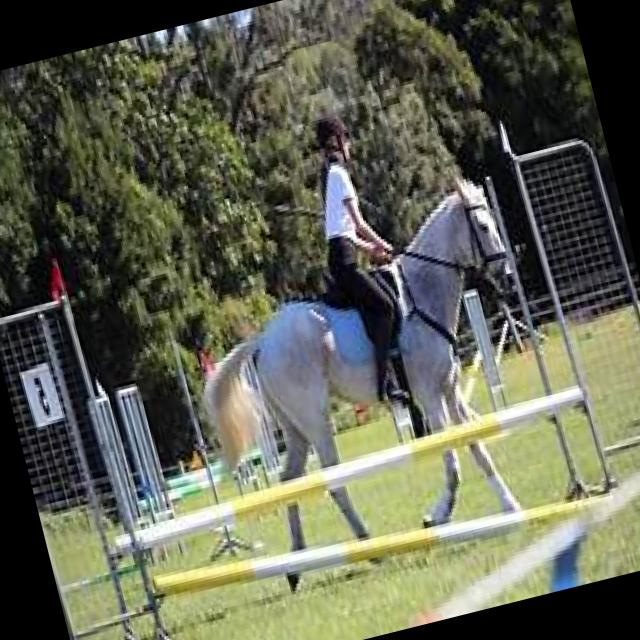animal: (166, 165, 576, 600)
